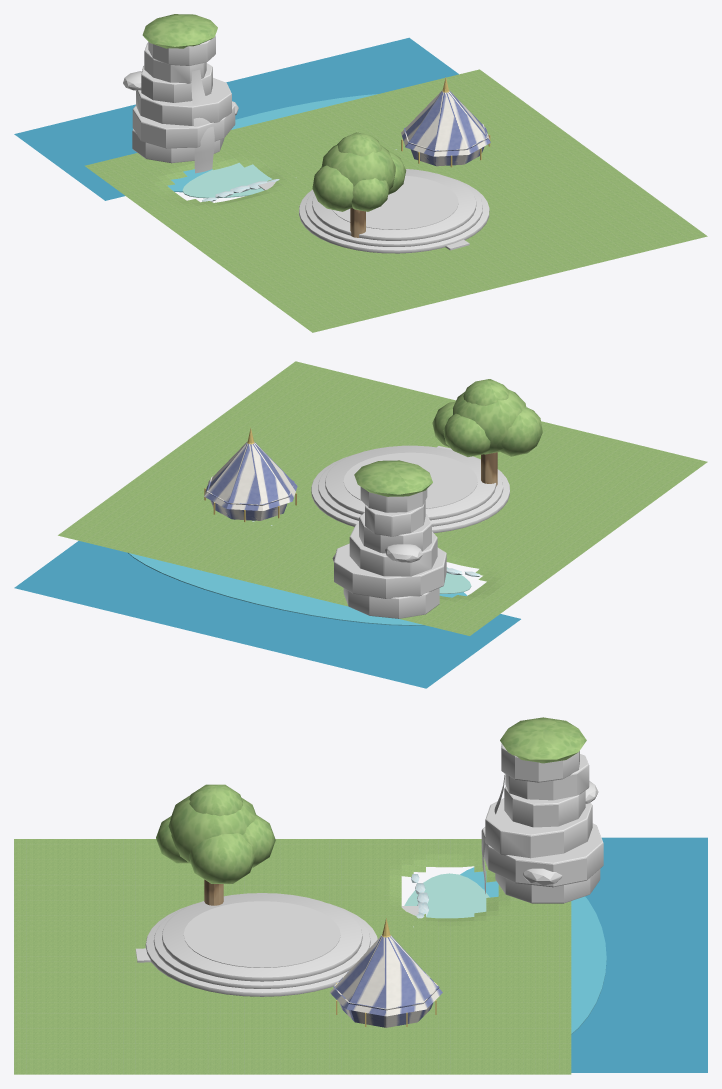
Rendered from Moonlake_HeroZone_v05.fbx.
3 views of the same model, one above another, from view 1: azimuth 30°, elevation 25°; view 2: azimuth 150°, elevation 25°; view 3: azimuth 270°, elevation 25° (orthographic). The views are drawn at different scales.
Parts seen in each view (by area): view 1: LD_ground, LD_water_deep, LD_rock, LD_platform_quarter, LD_tree_canopy, LD_tent_canopy, LD_platform_inlay, LD_rock_moss, LD_water_shallow, LD_water_mid, LD_rock_wet, LD_tent_wall; view 2: LD_ground, LD_water_deep, LD_rock, LD_tree_canopy, LD_platform_quarter, LD_water_mid, LD_tent_canopy, LD_platform_inlay, LD_rock_moss, LD_tent_wall, LD_tree_trunk; view 3: LD_ground, LD_water_deep, LD_rock, LD_platform_quarter, LD_platform_inlay, LD_tree_canopy, LD_tent_canopy, LD_water_mid, LD_rock_moss, LD_water_shallow, LD_tent_wall.
Part boxes in pixels (left/top/right/bottom): LD_ground: left=84, top=69, right=707, bottom=332; LD_water_deep: left=14, top=37, right=458, bottom=200; LD_rock: left=123, top=35, right=238, bottom=163; LD_platform_quarter: left=299, top=169, right=489, bottom=253; LD_tree_canopy: left=312, top=132, right=406, bottom=211; LD_tent_canopy: left=401, top=90, right=490, bottom=156; LD_platform_inlay: left=332, top=175, right=458, bottom=229; LD_rock_moss: left=142, top=14, right=217, bottom=48; LD_water_shallow: left=182, top=162, right=272, bottom=198; LD_water_mid: left=167, top=94, right=377, bottom=192; LD_rock_wet: left=191, top=69, right=214, bottom=173; LD_tent_wall: left=404, top=123, right=487, bottom=166; LD_ground: left=58, top=361, right=707, bottom=635; LD_water_deep: left=14, top=541, right=520, bottom=688; LD_rock: left=332, top=487, right=446, bottom=618; LD_tree_canopy: left=432, top=379, right=542, bottom=456; LD_platform_quarter: left=311, top=445, right=509, bottom=532; LD_water_mid: left=128, top=553, right=467, bottom=625; LD_tent_canopy: left=204, top=442, right=297, bottom=510; LD_platform_inlay: left=343, top=452, right=477, bottom=508; LD_rock_moss: left=354, top=460, right=432, bottom=496; LD_tent_wall: left=207, top=476, right=294, bottom=520; LD_tree_trunk: left=481, top=452, right=497, bottom=485; LD_ground: left=14, top=839, right=571, bottom=1074; LD_water_deep: left=571, top=837, right=707, bottom=1072; LD_rock: left=481, top=743, right=603, bottom=903; LD_platform_quarter: left=145, top=893, right=377, bottom=996; LD_platform_inlay: left=183, top=901, right=340, bottom=967; LD_tree_canopy: left=156, top=784, right=275, bottom=883; LD_tent_canopy: left=330, top=935, right=442, bottom=1016; LD_water_mid: left=460, top=867, right=606, bottom=1034; LD_rock_moss: left=500, top=717, right=586, bottom=763; LD_water_shallow: left=404, top=873, right=489, bottom=918; LD_tent_wall: left=333, top=971, right=439, bottom=1027.
Size of the model in its own units: 1140 by 364 by 1370.
